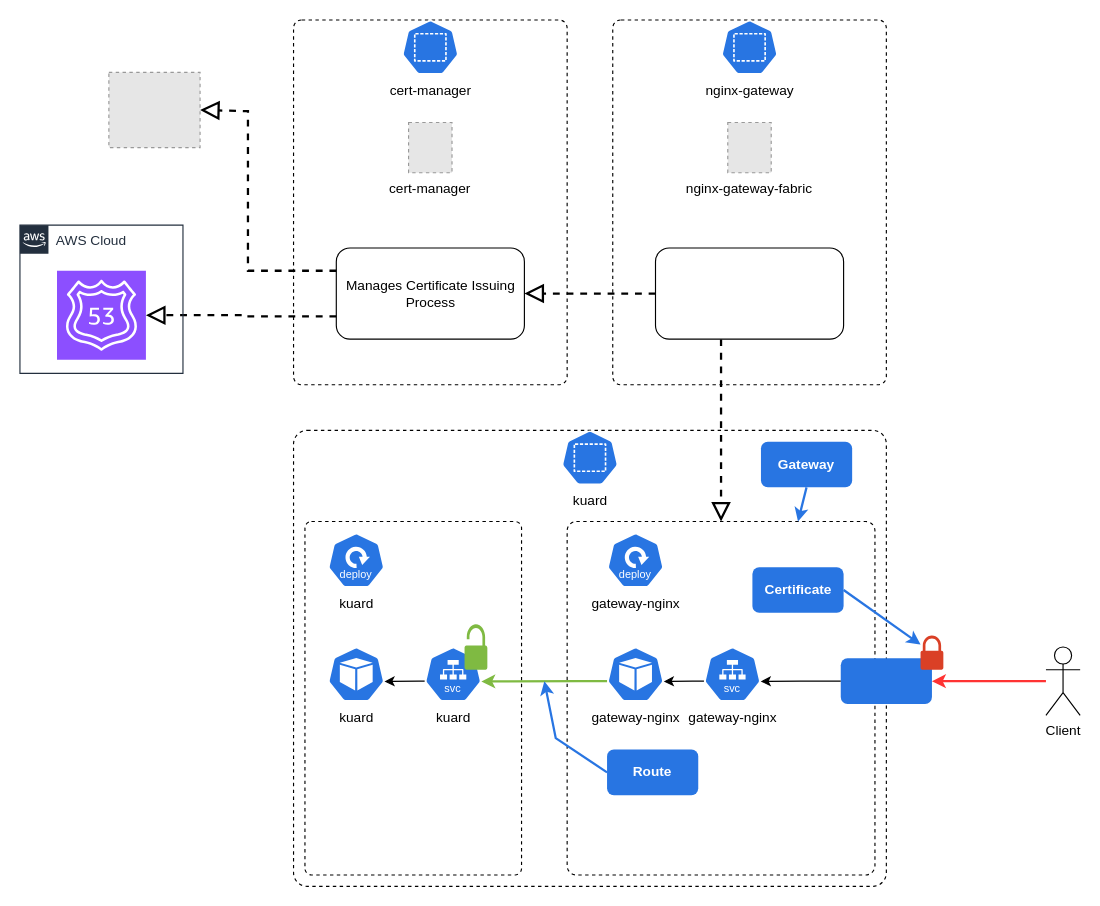
Image size: 1100x906. Some labels were removed from this diagram. Grey dashed boxes stand in for pictures. The centre of each missing label's shape, as x and y in pixels:
"Get certificates and deploy together with a Gateway" goes at point 749,293.
"NodePort" goes at point 885,680.
